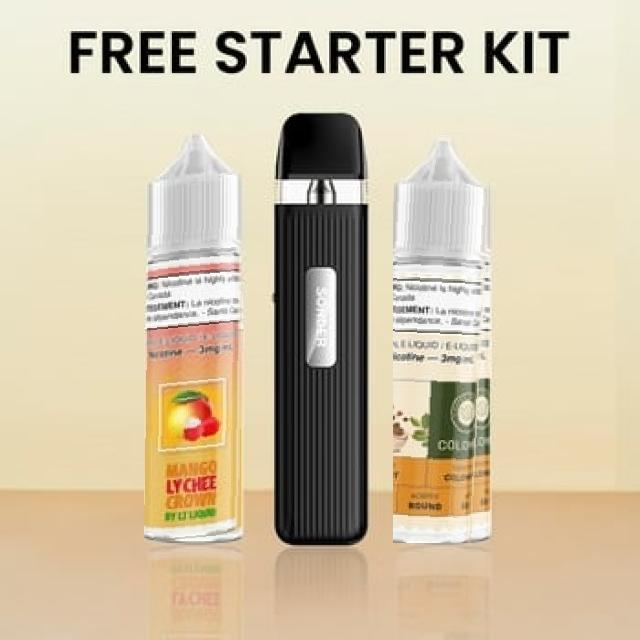Vapes: (144, 134, 245, 543), (393, 134, 492, 543)
